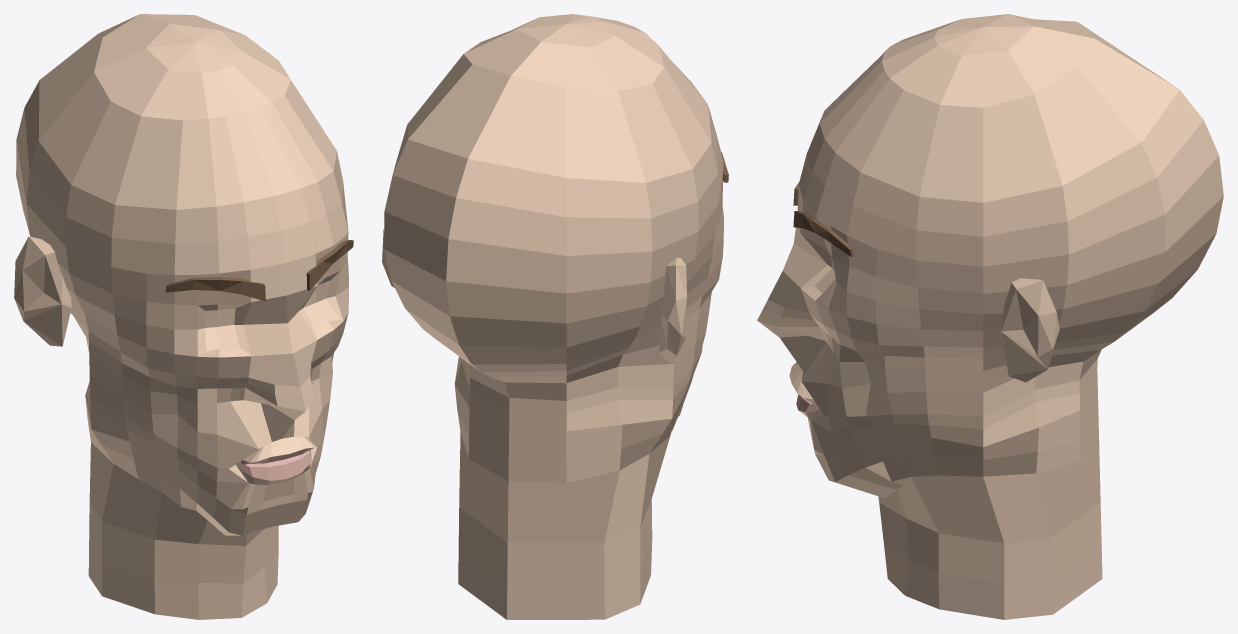
File: head_tpl_v7.glb
3 views of the same model, side by side, from view 1: azimuth 30°, elevation 25°; view 2: azimuth 150°, elevation 25°; view 3: azimuth 270°, elevation 25° (orthographic). The views are drawn at different scales.
Visible parts, largest first — view 1: Head_Main, Ears, Eyebrow_R, Eyebrow_L; view 2: Head_Main, Ears; view 3: Head_Main, Ears, Eyebrow_L.
Boxes of the visible parts, <box> form: Head_Main: <box>16,14,348,619</box>; Ears: <box>14,236,71,346</box>; Eyebrow_R: <box>165,277,265,301</box>; Eyebrow_L: <box>306,240,353,290</box>; Head_Main: <box>384,14,723,619</box>; Ears: <box>382,228,686,363</box>; Head_Main: <box>757,14,1223,619</box>; Ears: <box>1001,278,1059,382</box>; Eyebrow_L: <box>793,211,853,257</box>.
Bounding box in the file's own units: 0.1635 × 0.2886 × 0.2209.
